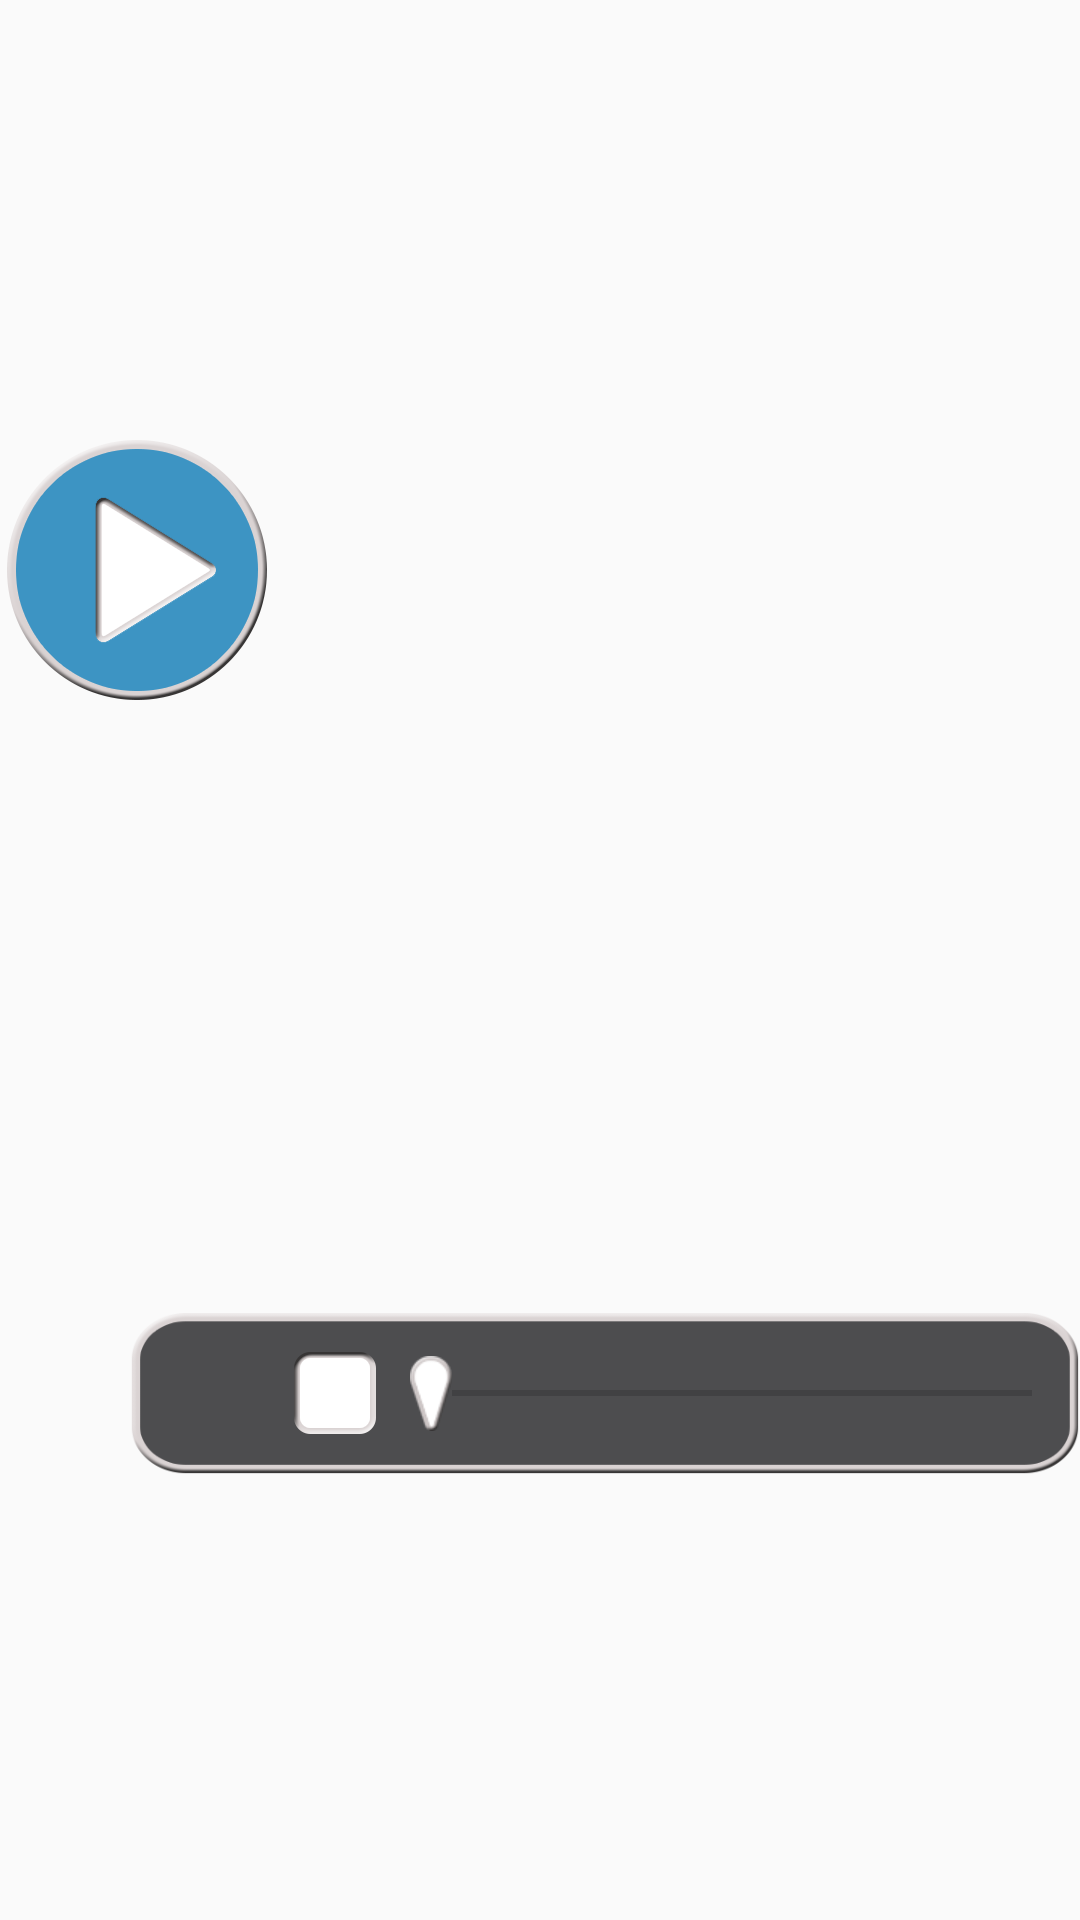

Screen size 1080px x 1920px. Icon name, then its box in pixels as (x1, y1, x2, y2):
mplayer player: (7, 443, 267, 700)
